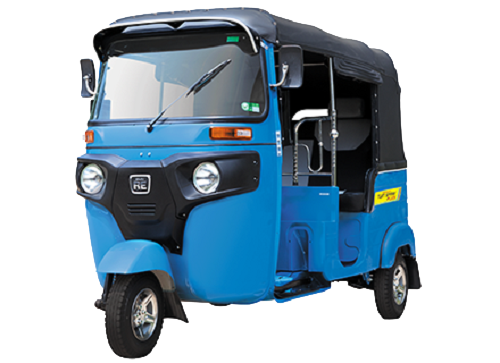auto: (75, 9, 422, 361)
